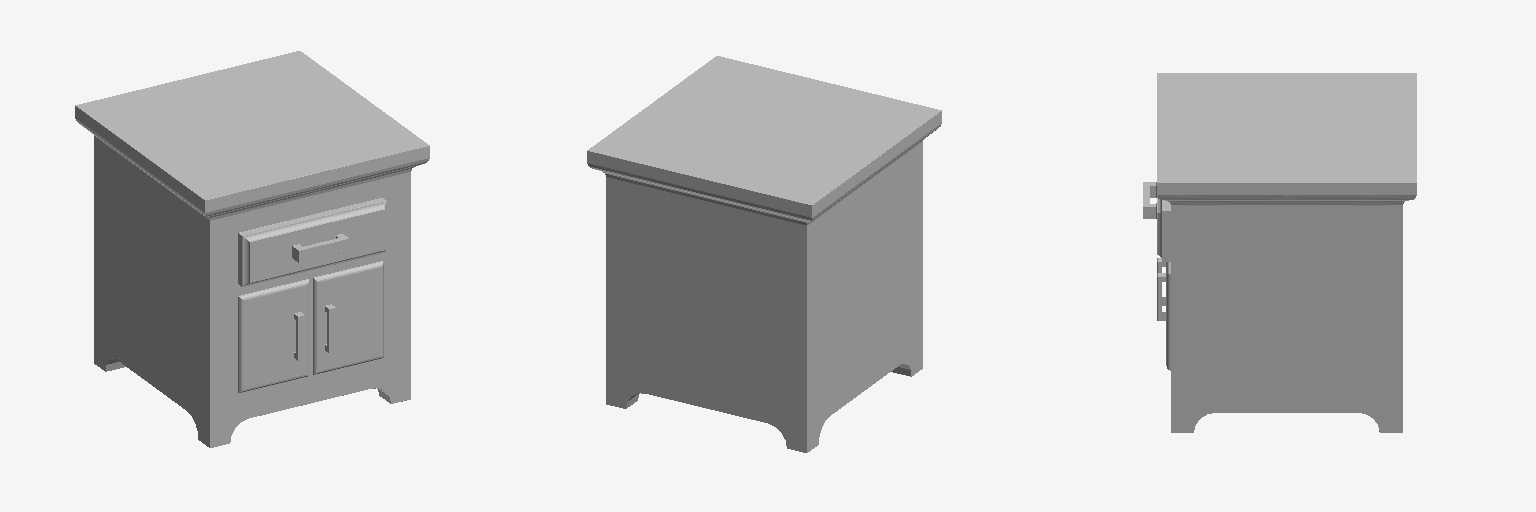
The model's file is Nightstand.obj.
The picture shows the model from 3 angles: view 1: azimuth 30°, elevation 25°; view 2: azimuth 150°, elevation 25°; view 3: azimuth 270°, elevation 25°; orthographic projection.
Visible parts, largest first — view 1: pCube3; view 2: pCube3; view 3: pCube3.
Boxes of the visible parts, x1,y1,x2,y2 form: pCube3: [75, 51, 429, 447]; pCube3: [587, 56, 941, 452]; pCube3: [1143, 73, 1416, 432].
Size of the model in its own units: 2.75 by 2.99 by 2.9.